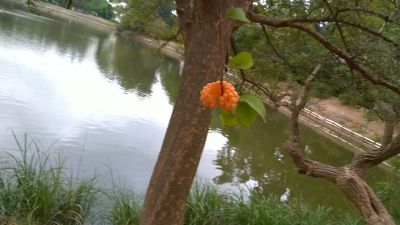eggs: (200, 79, 240, 111)
